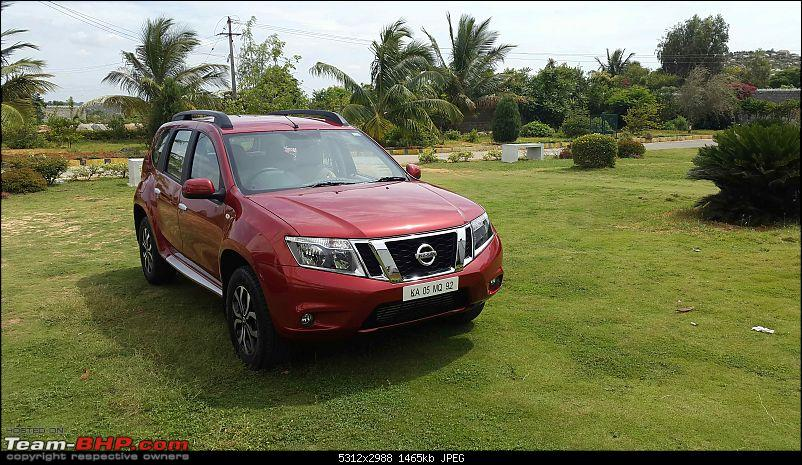number_plate: (396, 276, 474, 299)
